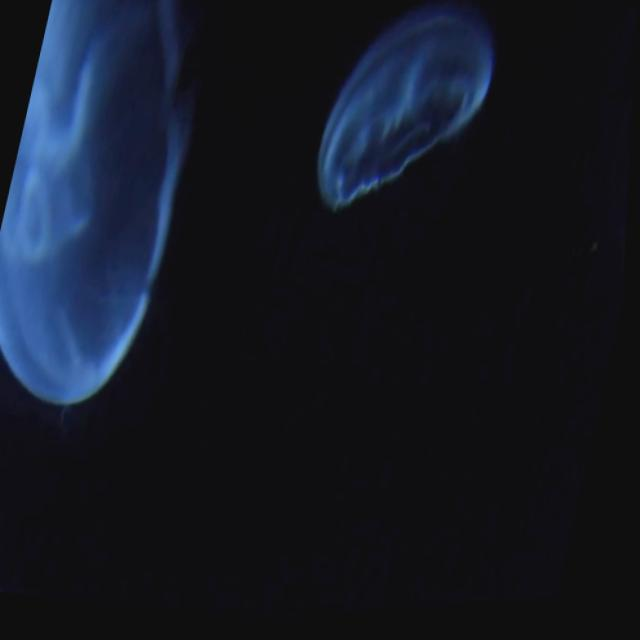Moon-jellyfish: (0, 0, 210, 405), (316, 0, 501, 216)
